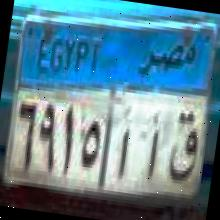1: (57, 103, 79, 181)
5: (76, 114, 106, 178)
6: (8, 96, 40, 179)
9: (32, 102, 63, 178)
alif: (111, 104, 138, 189), (142, 108, 166, 189)
qaaf: (162, 101, 206, 192)
